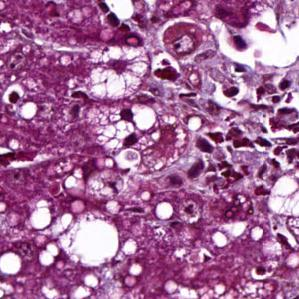ballooning: (84, 98, 160, 155), (84, 43, 151, 103), (59, 209, 121, 268), (265, 172, 299, 219)
